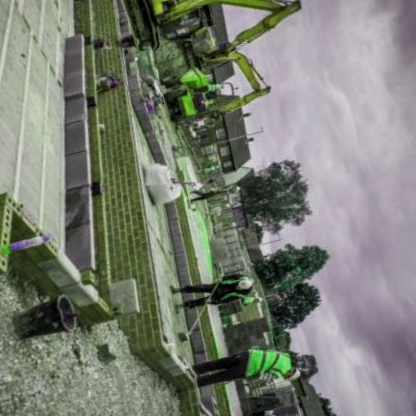vest: (237, 338, 298, 386), (213, 270, 256, 304)
white: (282, 366, 306, 387), (234, 273, 256, 293)
